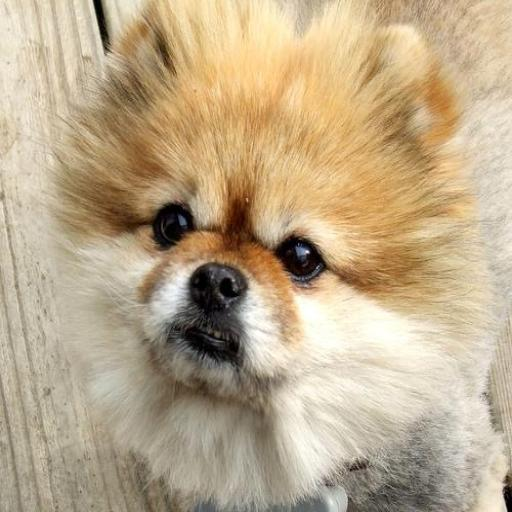dog_face: (83, 21, 441, 395)
